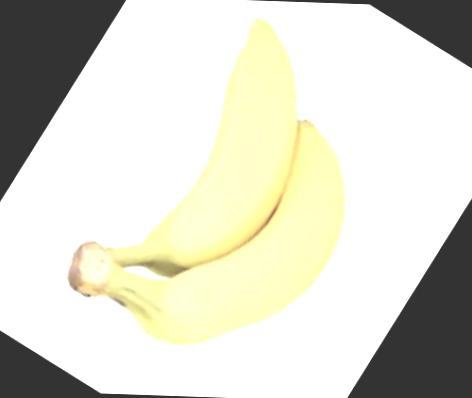Banana Ripe: (28, 0, 408, 377)
